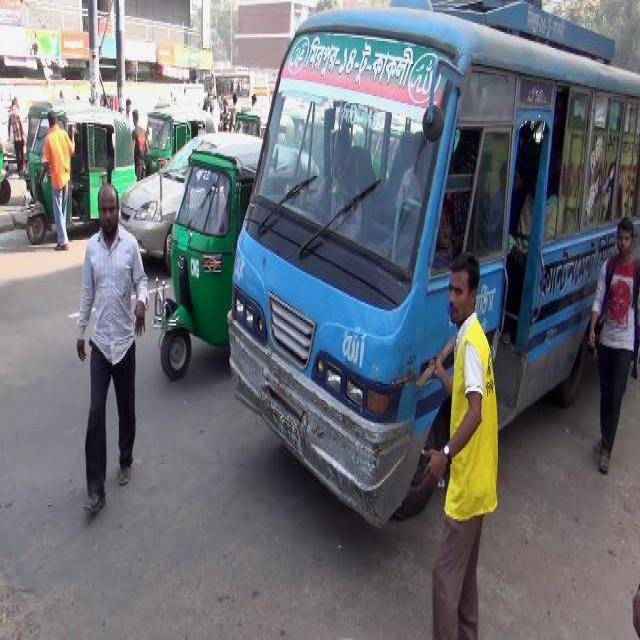BUS: (226, 5, 638, 518)
